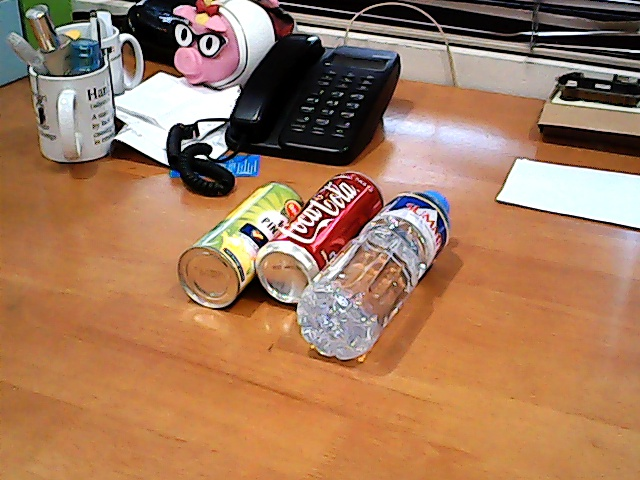Cola: (250, 157, 376, 299)
Pine Juice: (171, 170, 288, 306)
Summit Water: (310, 188, 456, 356)
